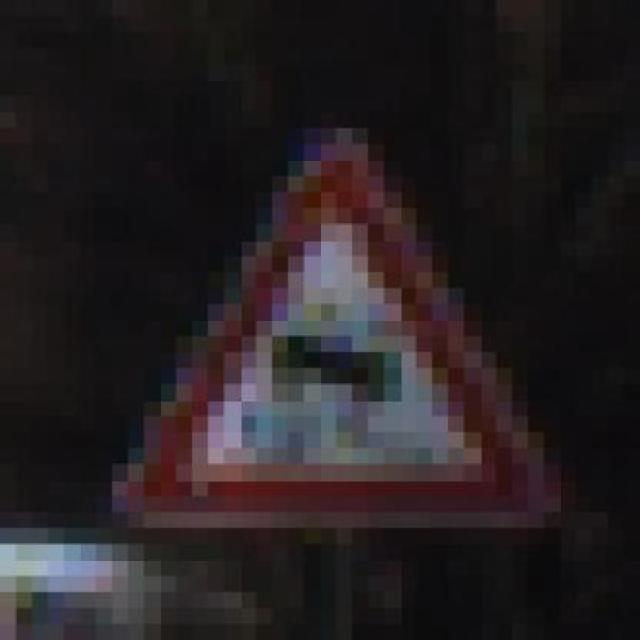Slippery Road Ahead: (112, 112, 576, 560)
